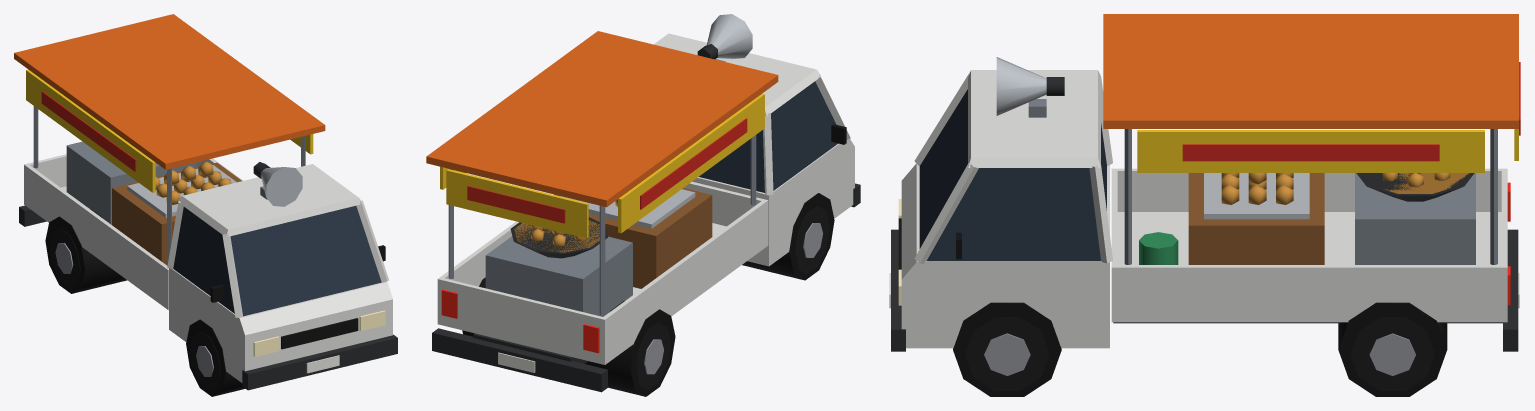
File: mobil_tahu_bulat.glb
3 renders of one model, left to right at view 1: azimuth 30°, elevation 25°; view 2: azimuth 150°, elevation 25°; view 3: azimuth 270°, elevation 25°, orthographic. The views are drawn at different scales.
Parts seen in each view (by area): view 1: body, wheel_rr, wheel_fr; view 2: body, wheel_fr, wheel_rr; view 3: body, wheel_rl, wheel_fl.
Part boxes in pixels (x1,y1,x2,y2): body: (14, 14, 397, 396); wheel_rr: (49, 228, 80, 288); wheel_fr: (190, 331, 221, 391); body: (426, 14, 860, 396); wheel_fr: (794, 206, 829, 273); wheel_rr: (635, 322, 670, 390); body: (889, 14, 1520, 396); wheel_rl: (1350, 317, 1434, 390); wheel_fl: (965, 317, 1049, 390).
Bounding box in the file's own units: 1.81 × 2.1 × 4.18.
Materials: 1 (1 with a texture image).
